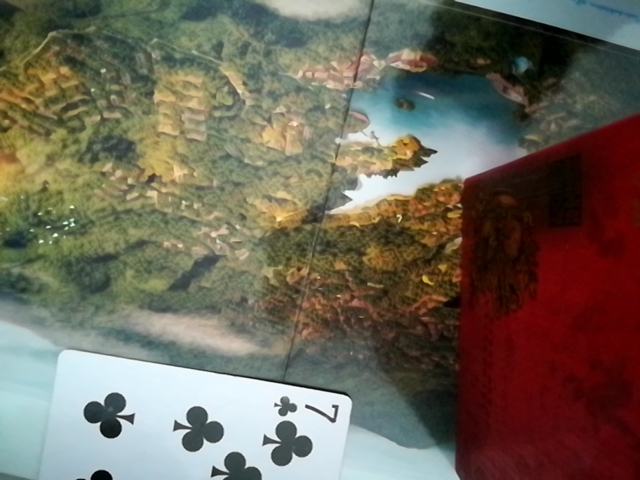mh 7: (20, 349, 364, 480)
